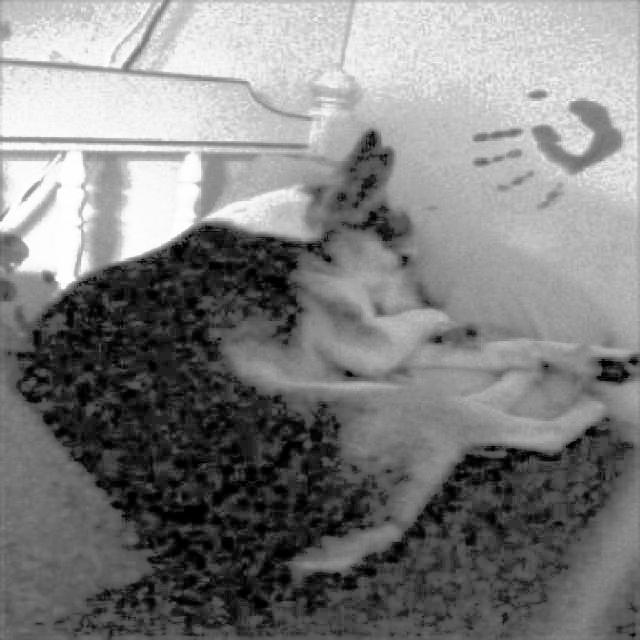Dog: (15, 118, 640, 594)
